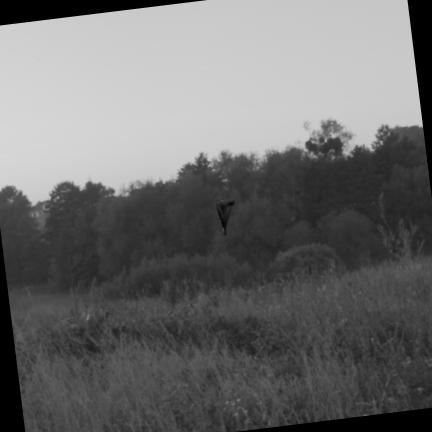Shahed: (216, 198, 234, 235)
